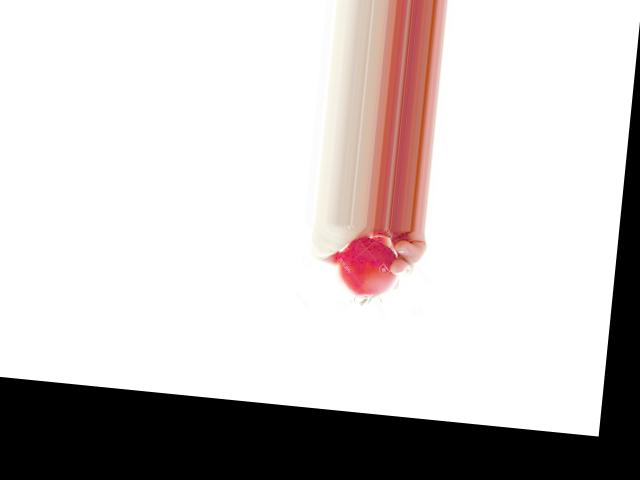tomato: (334, 235, 403, 302)
